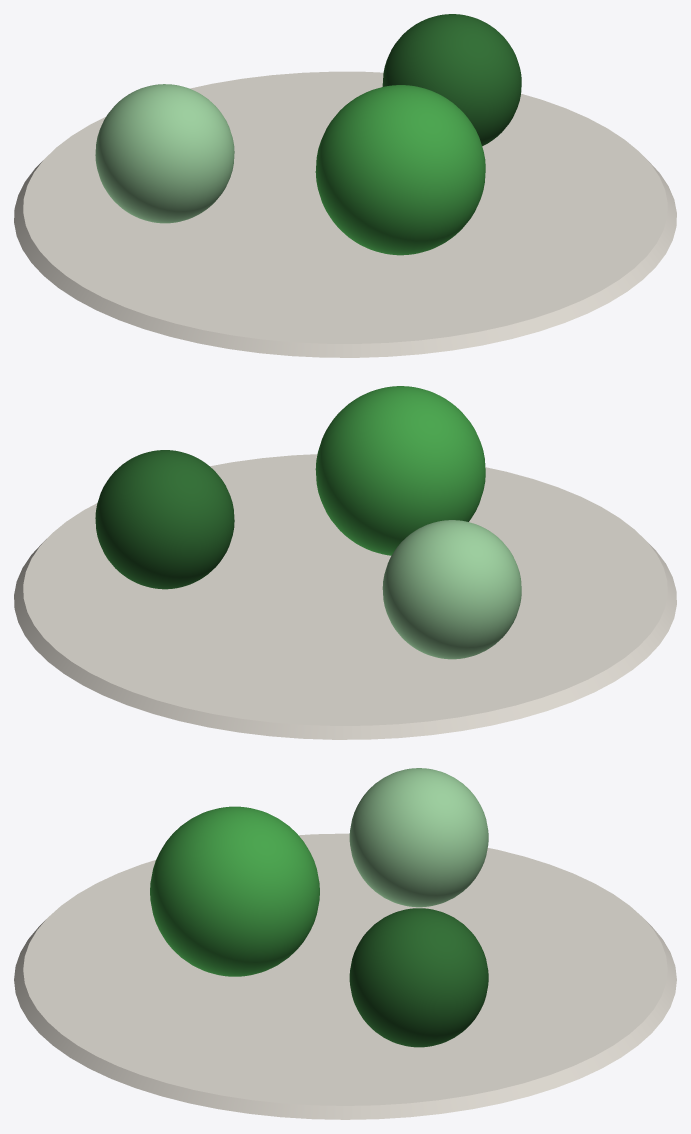
File: green.glb
3 renders of one model, top to bottom at view 1: azimuth 30°, elevation 25°; view 2: azimuth 150°, elevation 25°; view 3: azimuth 270°, elevation 25°, orthographic.
Visible parts, largest first — view 1: base, normal, light, dark; view 2: base, normal, dark, light; view 3: base, normal, dark, light.
Boxes of the visible parts, left/top/right/bottom form: base: left=14, top=71, right=676, bottom=357; normal: left=315, top=85, right=485, bottom=255; light: left=95, top=84, right=234, bottom=223; dark: left=382, top=14, right=521, bottom=146; base: left=14, top=454, right=676, bottom=739; normal: left=315, top=386, right=485, bottom=555; dark: left=95, top=450, right=234, bottom=589; light: left=382, top=520, right=521, bottom=659; base: left=14, top=833, right=676, bottom=1119; normal: left=150, top=806, right=319, bottom=976; dark: left=349, top=908, right=488, bottom=1047; light: left=349, top=768, right=488, bottom=907.
Size of the model in its own units: 3.6 by 0.99 by 3.6.
